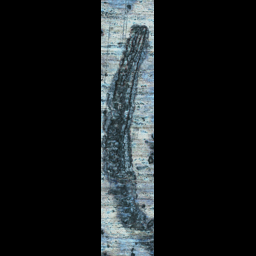d: (101, 21, 152, 251)
